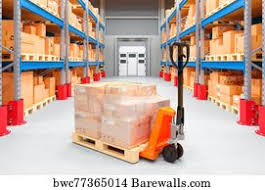Pallet Jack: (73, 42, 190, 163)
